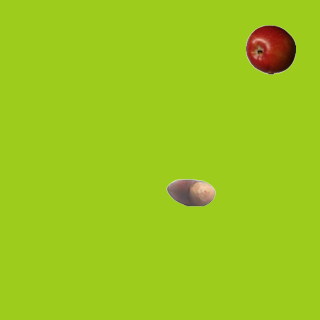Apple Braeburn: (245, 24, 295, 74)
Hazelnut: (165, 167, 215, 217)
